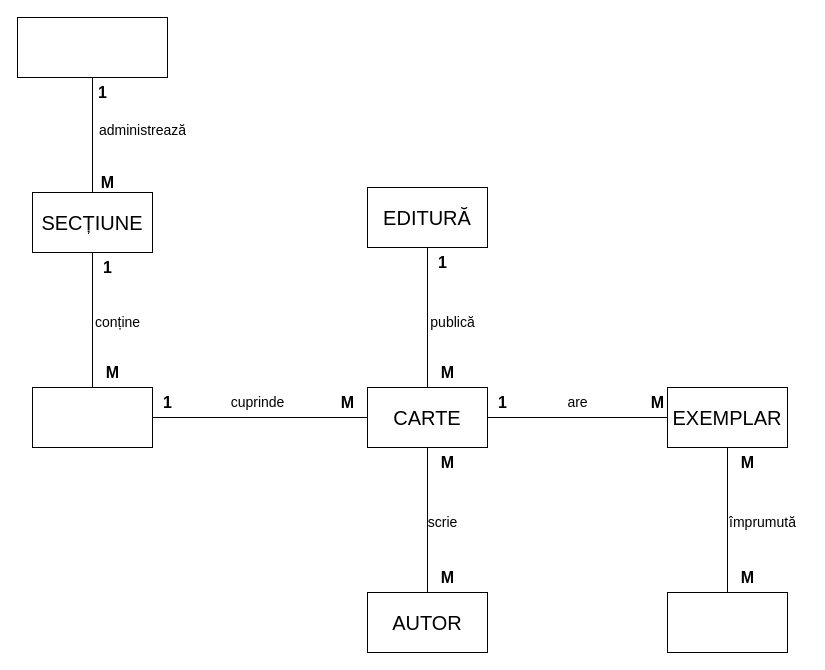
The diagram is 825 pixels wide and 670 high, and some of its shapes have lost their labels. Here are the shapes that lost their labels. From the top down, the box of each, then its label:
(16, 16, 168, 78): BIBLIOTECAR
(32, 386, 152, 448): CATEGORIE
(666, 592, 788, 652): CITITOR
